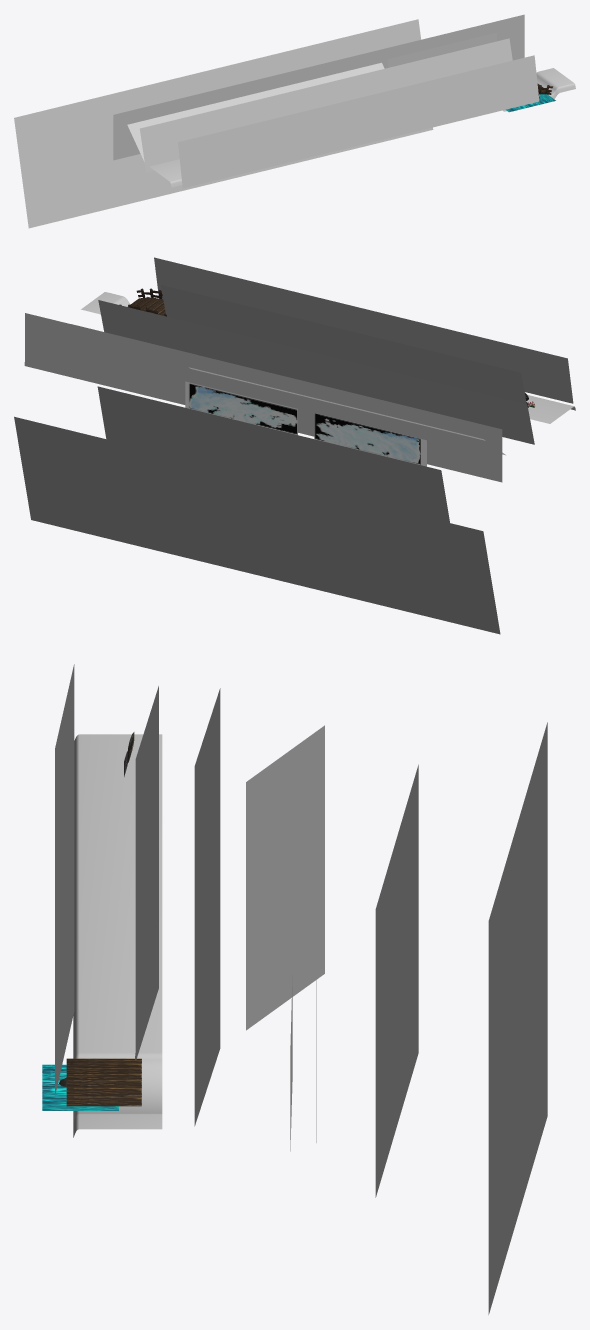
File: villige_01.FBX
The picture shows the model from 3 angles, top to bottom: view 1: azimuth 30°, elevation 25°; view 2: azimuth 150°, elevation 25°; view 3: azimuth 270°, elevation 25°; orthographic projection. The views are drawn at different scales.
Visible parts, largest first — view 1: sky, near, far_tree2, middle, far_tree, far, halla, ground, near2; view 2: sky, far_tree2, halla, far_tree, near, middle, cloud2, cloud, ground, far, brige; view 3: ground, sky, far, halla, far_tree, middle, near, brige, water.
Part boxes in pixels (box(x1,y1,x2,y2)): sky: box(14, 19, 433, 228); near: box(178, 55, 539, 188); far_tree2: box(113, 14, 524, 160); middle: box(176, 48, 488, 141); far_tree: box(140, 38, 512, 172); far: box(127, 62, 384, 161); halla: box(114, 40, 410, 193); ground: box(149, 68, 575, 187); near2: box(387, 32, 496, 67); sky: box(14, 416, 500, 634); far_tree2: box(24, 313, 502, 482); halla: box(97, 386, 449, 522); far_tree: box(98, 300, 534, 444); near: box(154, 257, 573, 403); middle: box(161, 285, 526, 404); cloud2: box(185, 381, 297, 434); cloud: box(314, 413, 426, 466); ground: box(81, 292, 575, 423); far: box(189, 367, 505, 455); brige: box(119, 297, 166, 316); ground: box(73, 734, 162, 1137); sky: box(488, 722, 547, 1314); far: box(246, 725, 324, 1030); halla: box(375, 764, 418, 1197); far_tree: box(194, 688, 220, 1126); middle: box(135, 686, 158, 1060); near: box(55, 664, 74, 1095); brige: box(66, 1058, 141, 1106); water: box(42, 1064, 118, 1110).
Bounding box in the file's own units: 4587 × 1461 × 2217.
